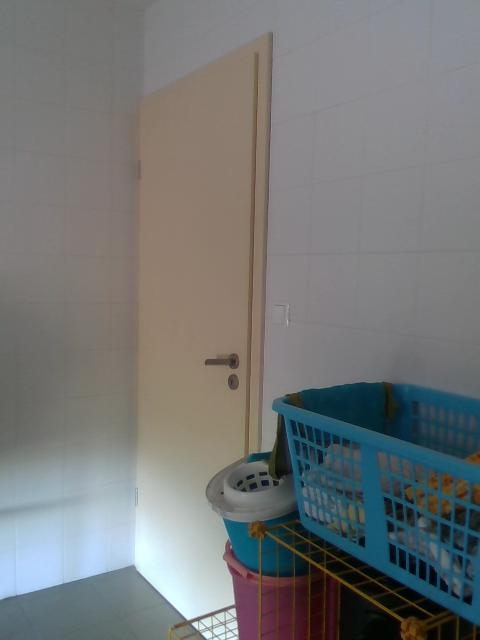closed_door: (133, 30, 272, 495)
